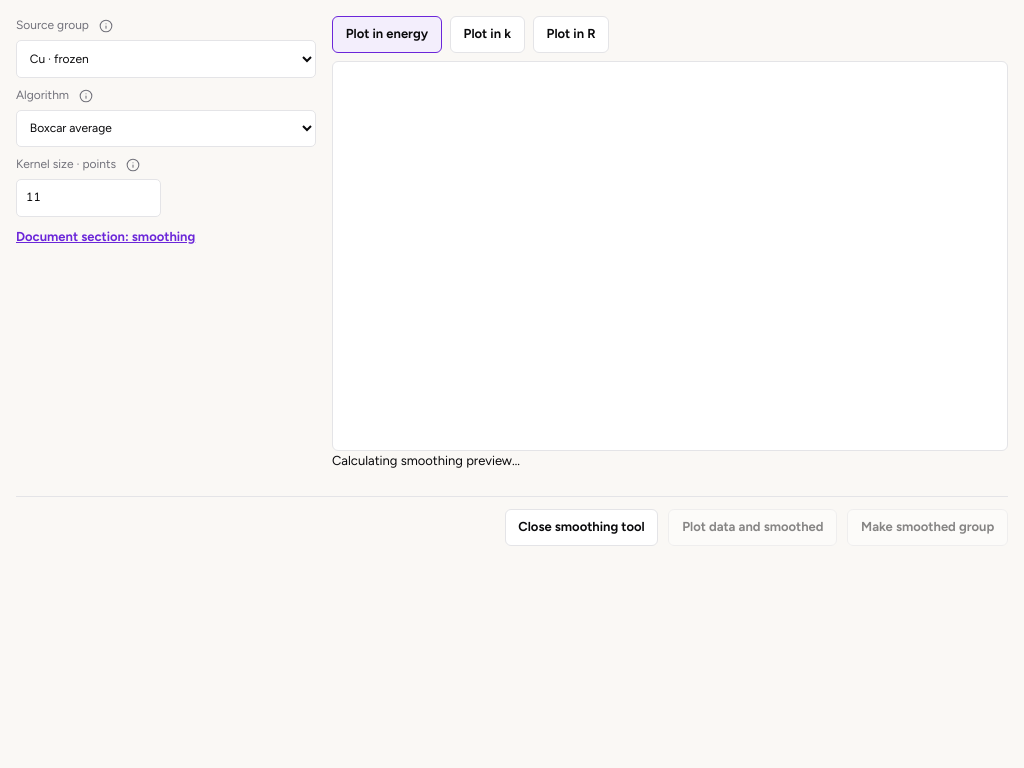
Test: ignores late responses after input edits and rejects a response for an obsolete revision
Replace the text in the number field labelled "Kernel size · points" with "8" at (88, 198), box [16,179,161,217]
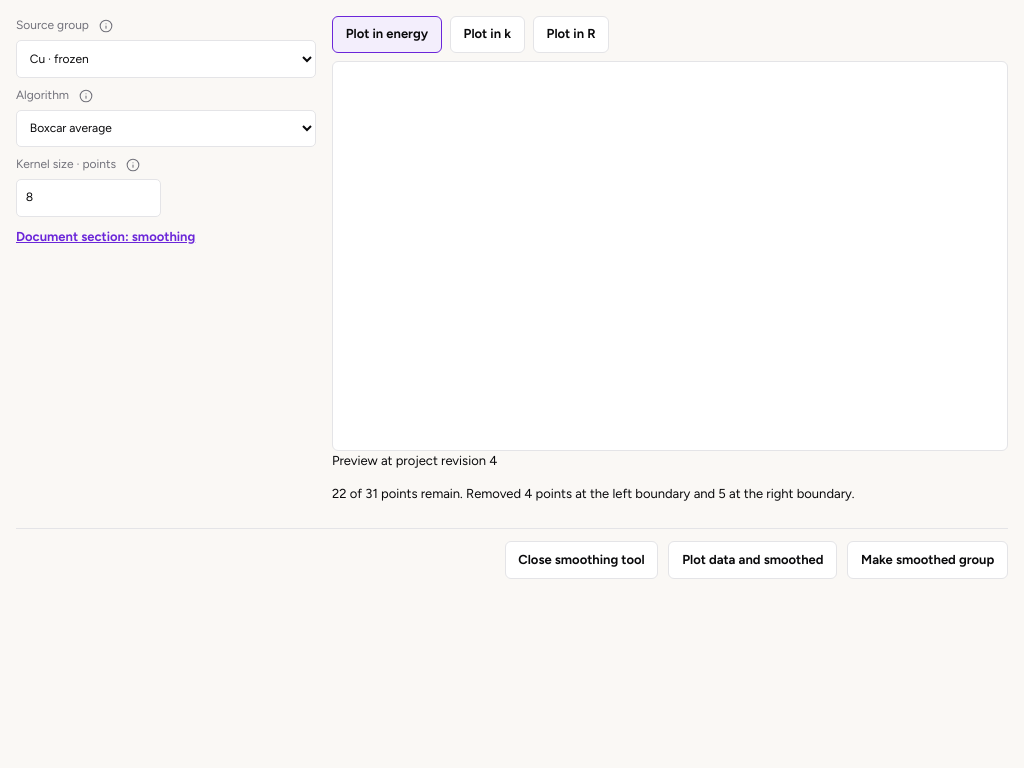
Expected: the button "Make smoothed group" is enabled, [847,541,1008,579]
Replace the text in the number field labelled "Kernel size · points" with "9" at (88, 198), box [16,179,161,217]
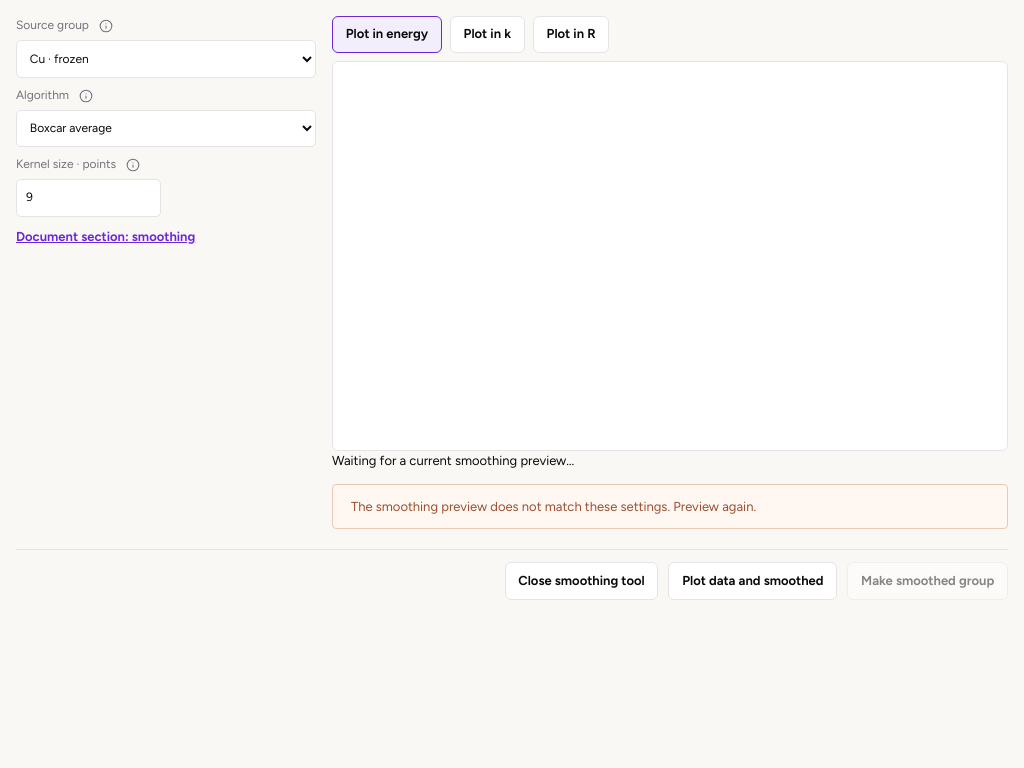
Expected: the message "The smoothing preview does not match these settings. Preview again." is shown, [332,484,1008,529]
Expected: the button "Make smoothed group" is disabled, [847,562,1008,600]
